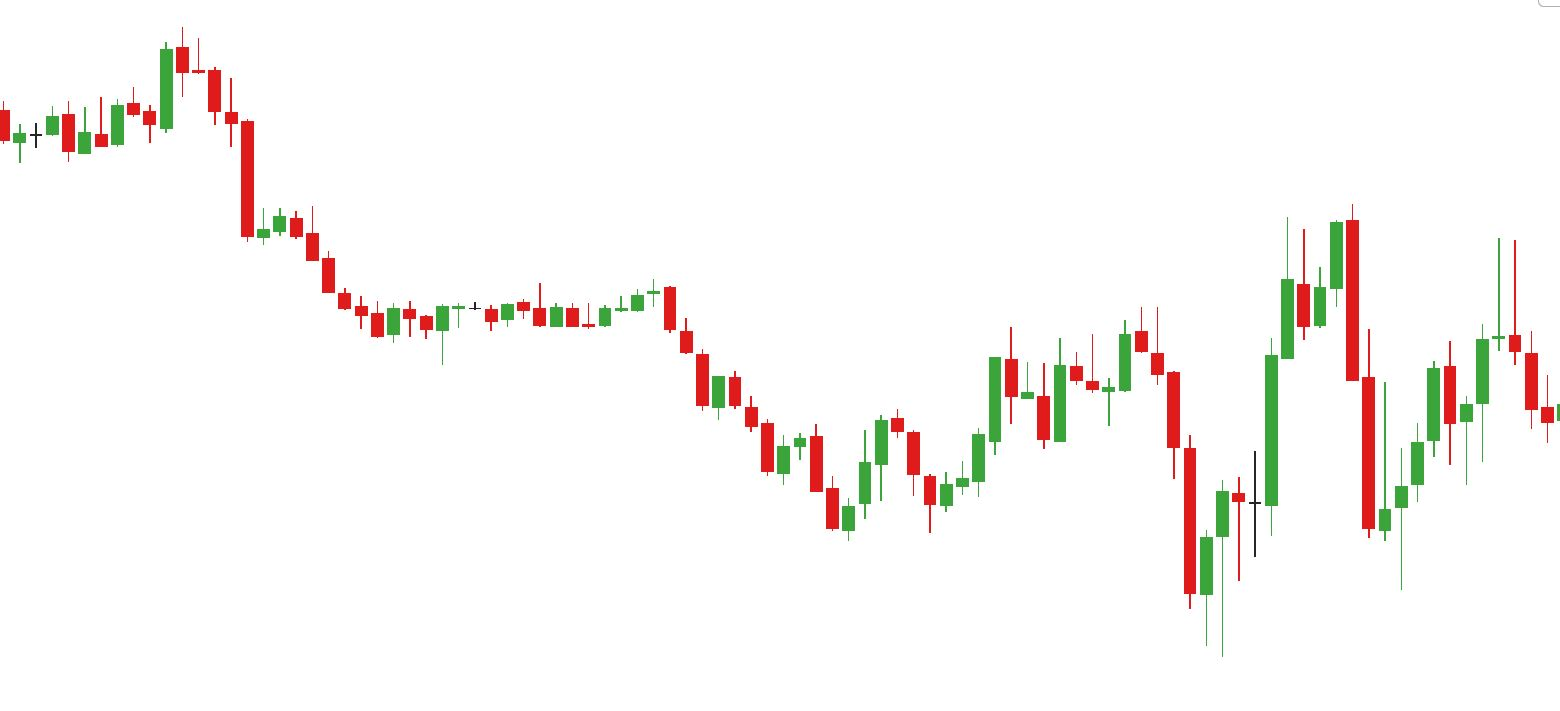buy: (919, 413, 1231, 663), (1247, 356, 1409, 599)
sell: (1051, 308, 1150, 399)
